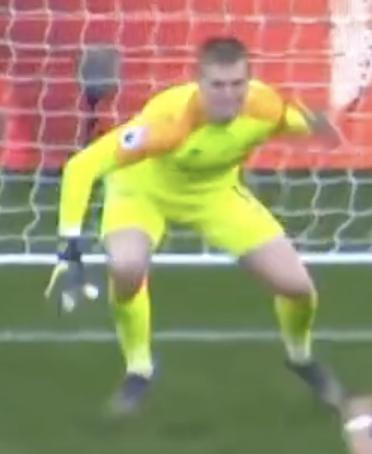goalkeeper: (26, 21, 372, 437)
